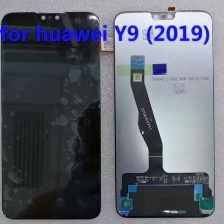phone: (110, 7, 217, 221), (0, 8, 104, 221)
